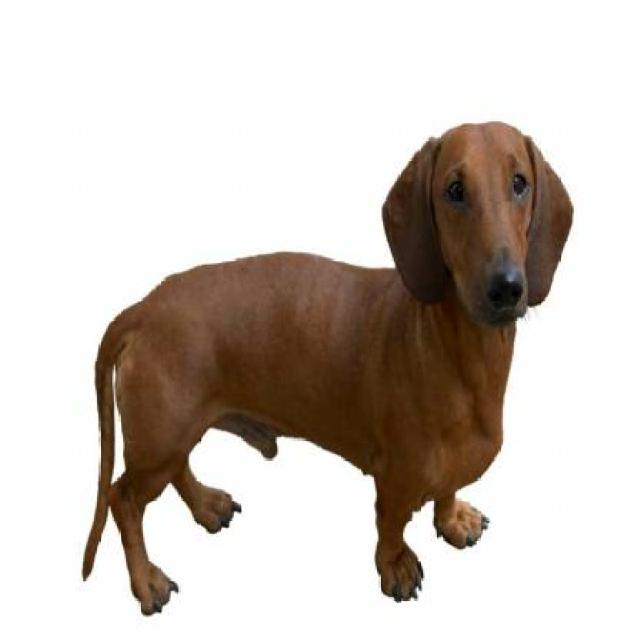Dog: (81, 92, 578, 618)
